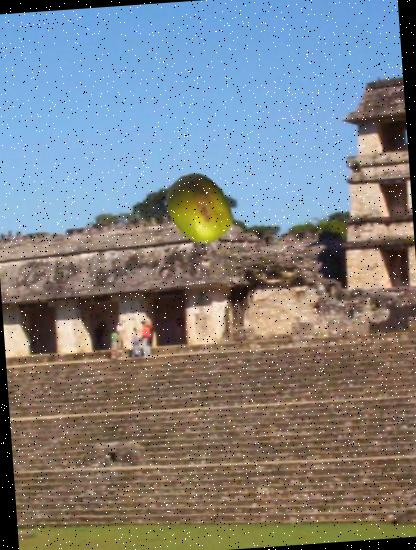Pomelo: (159, 169, 238, 248)
